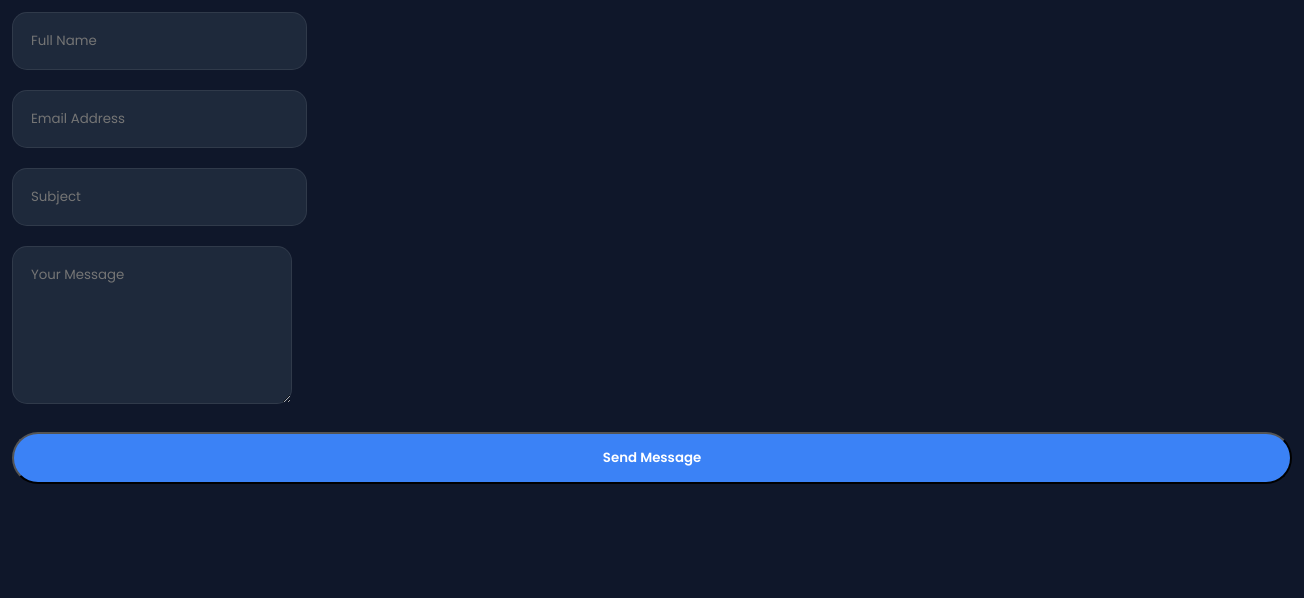
Scenario: ContactForm › submits successfully and shows a confirmation message
The image size is (1304, 598).
In the field with placeholder "Full Name": x=160, y=41 [12, 12, 307, 70], type "Ada Lovelace"
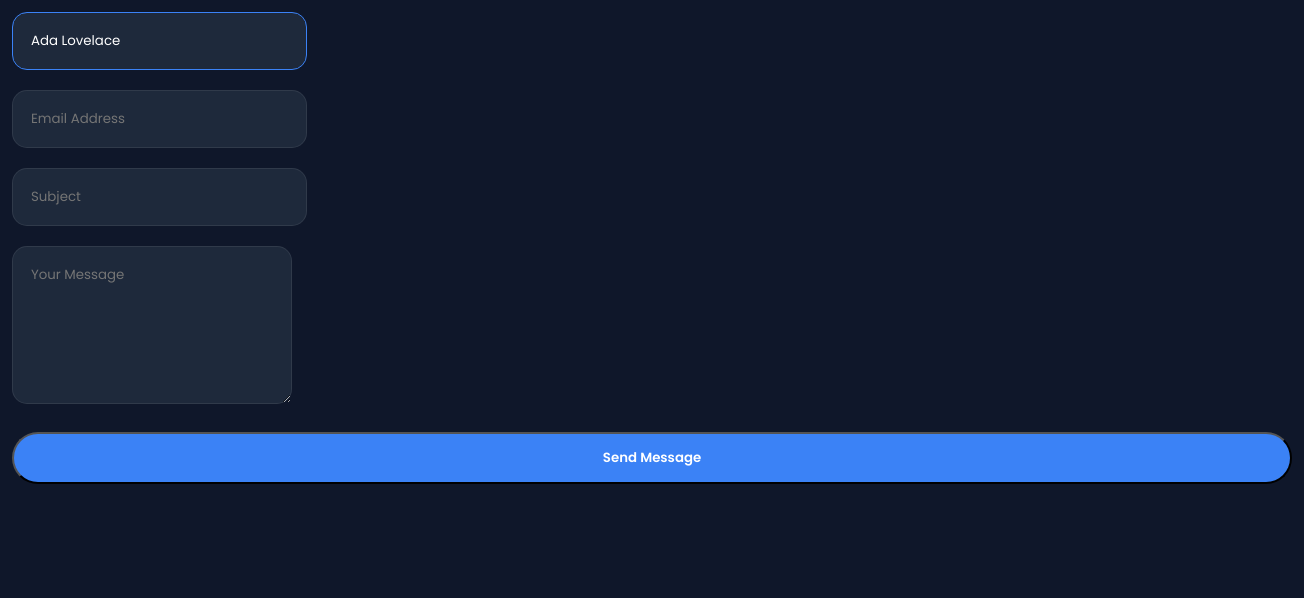
In the field with placeholder "Email Address": x=160, y=119 [12, 90, 307, 148], type "ada@example.com"
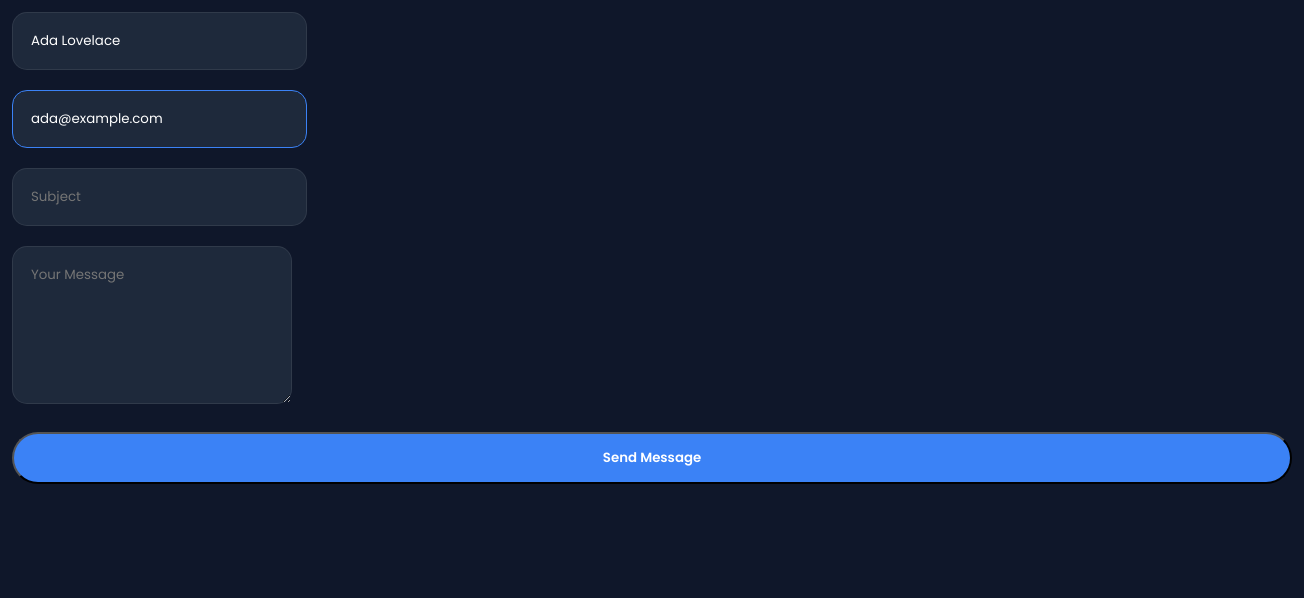
In the text box with placeholder "Your Message": x=152, y=325 [12, 246, 292, 404], type "I would love to talk about a project with you."
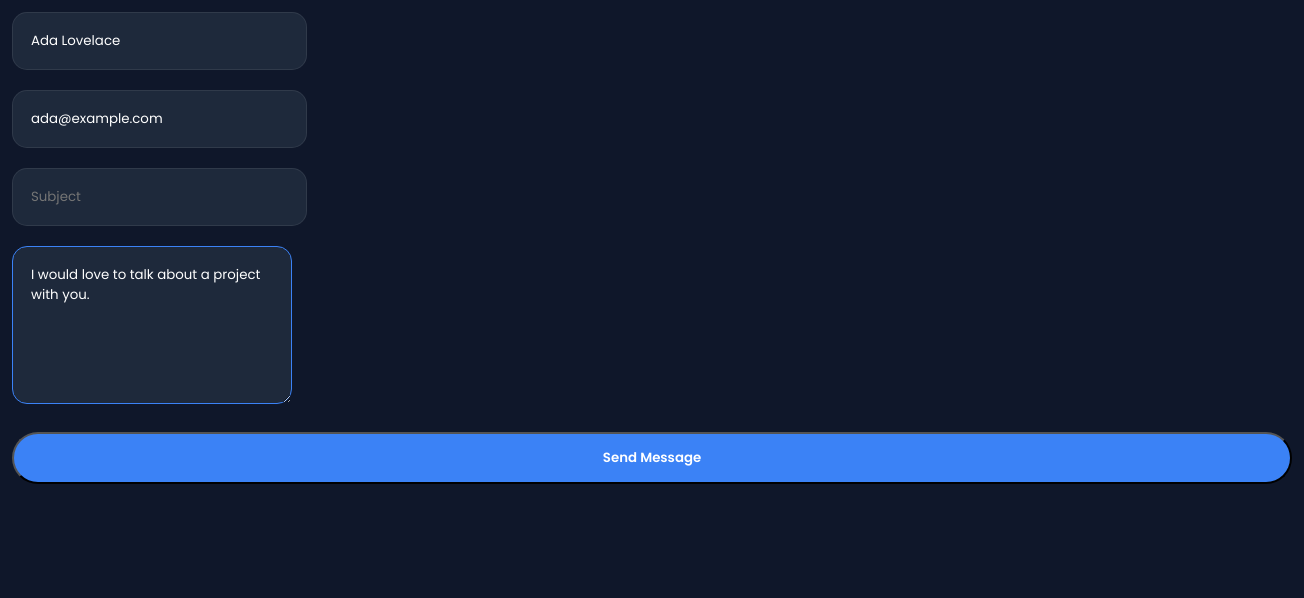
Click the button "Send Message": x=652, y=458 [12, 432, 1292, 484]
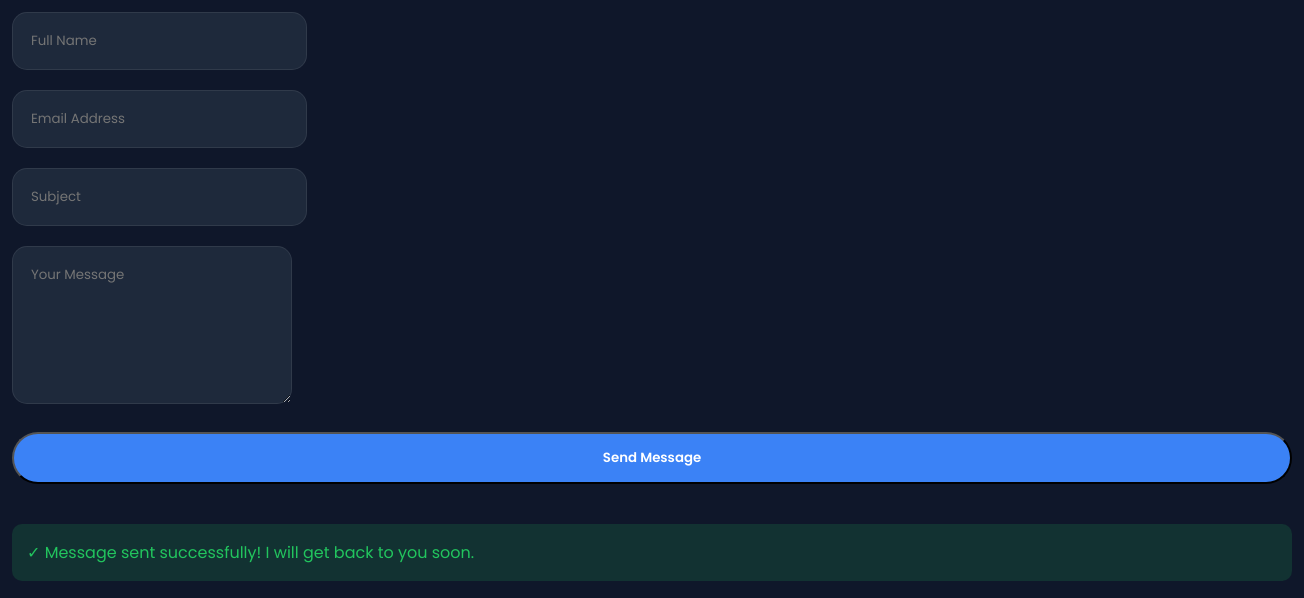
Result: the text "✓ Message sent successfully! I will get back to you soon." is shown at [12, 524, 1292, 581]
Result: the field with placeholder "Full Name" is empty at [12, 12, 307, 70]
